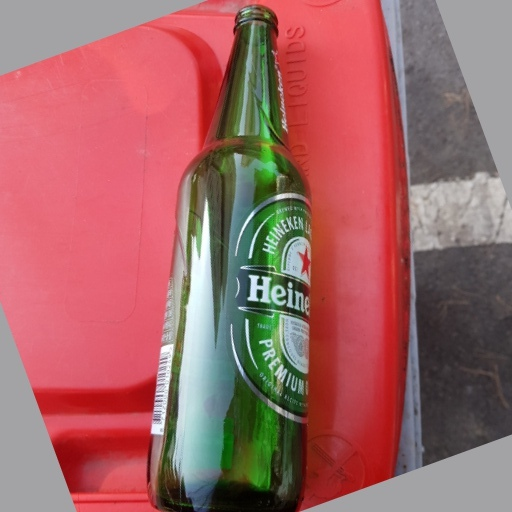Glass_1: (141, 1, 317, 512)
